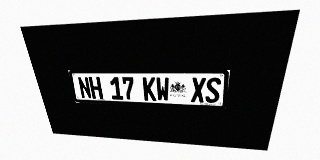1: (109, 77, 123, 100)
7: (121, 77, 135, 100)
H: (88, 77, 103, 99)
K: (142, 77, 156, 101)
N: (77, 77, 92, 99)
S: (205, 77, 221, 103)
W: (156, 77, 169, 101)
X: (191, 77, 206, 103)
